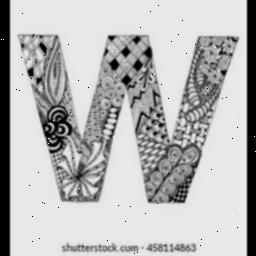w: (10, 28, 246, 210)
